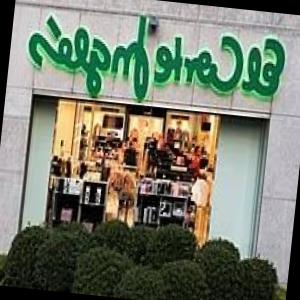corte_ingles: (24, 3, 290, 113)
